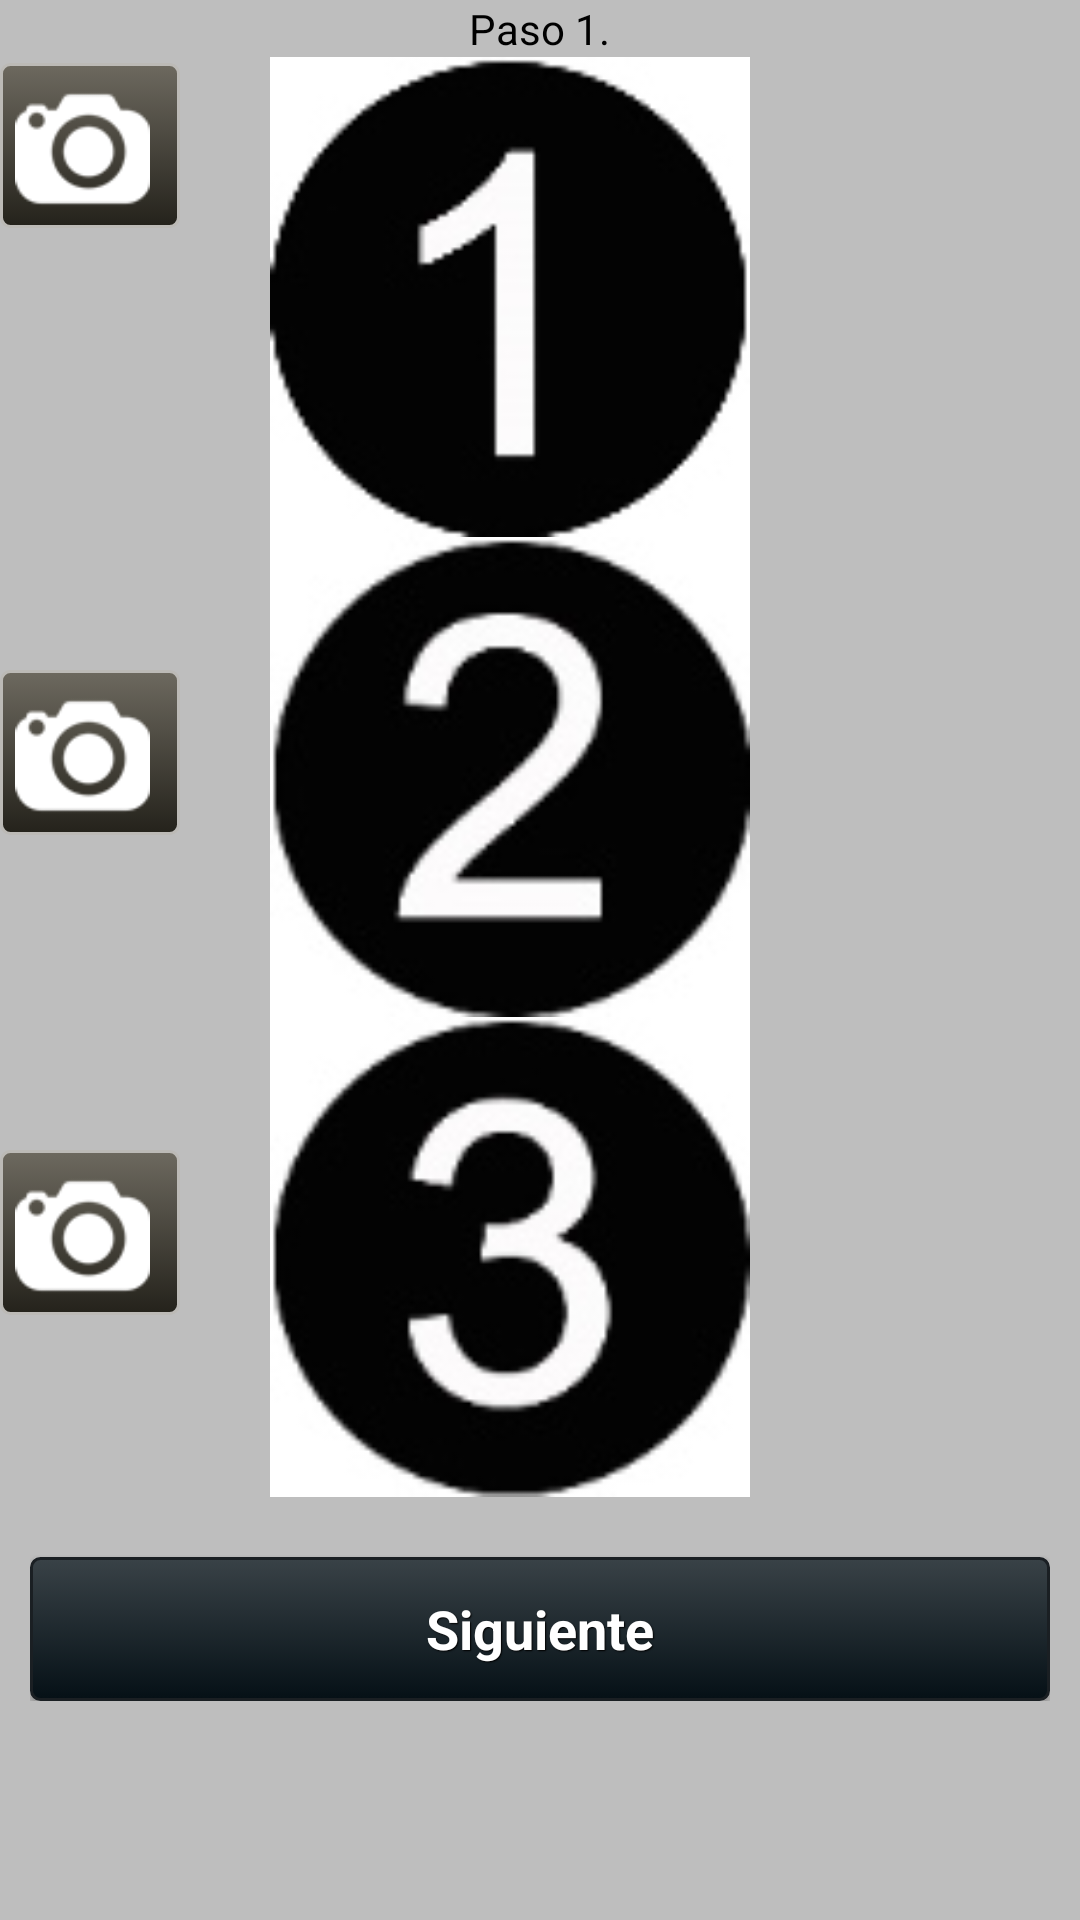

Named icons in this screenshot (1080w x 1920h) and their centers, point (x, y):
cameraicon: point (90, 145), point (90, 752), point (90, 1232)
